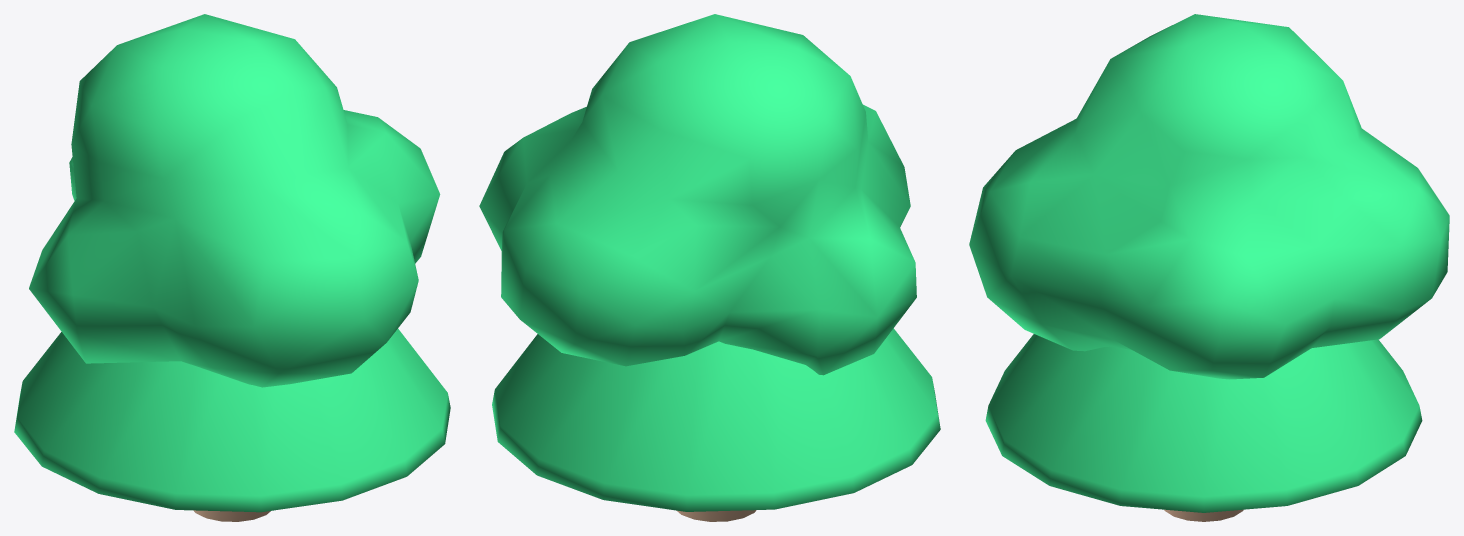
Rendered from tree.fbx.
3 renders of one model, left to right at view 1: azimuth 30°, elevation 25°; view 2: azimuth 150°, elevation 25°; view 3: azimuth 270°, elevation 25°, orthographic. The views are drawn at different scales.
Visible parts, largest first — view 1: tree2.003, tree.003; view 2: tree2.003, tree.003; view 3: tree2.003, tree.003.
Part boxes in pixels (left/top/right/bottom): tree2.003: left=29, top=14, right=440, bottom=387; tree.003: left=14, top=329, right=450, bottom=521; tree2.003: left=479, top=14, right=916, bottom=375; tree.003: left=492, top=328, right=940, bottom=521; tree2.003: left=969, top=14, right=1449, bottom=379; tree.003: left=985, top=334, right=1422, bottom=521.
Size of the model in its own units: 564 by 639 by 598.
